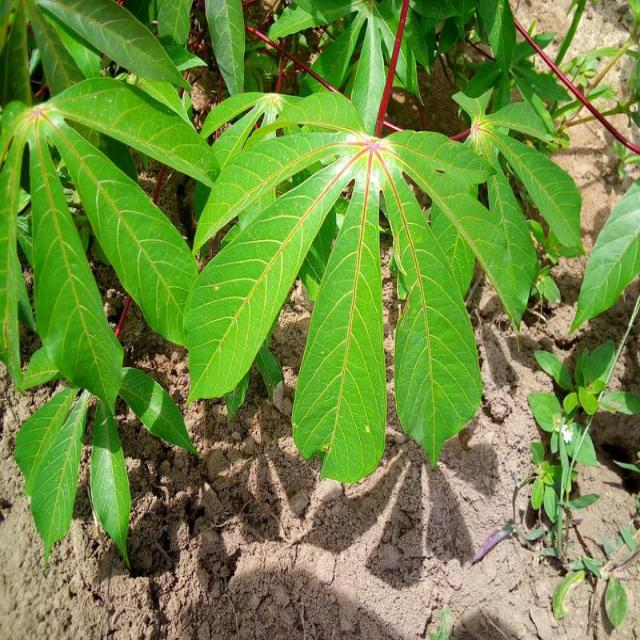cassava leaf: (182, 150, 358, 408), (290, 175, 388, 483)
